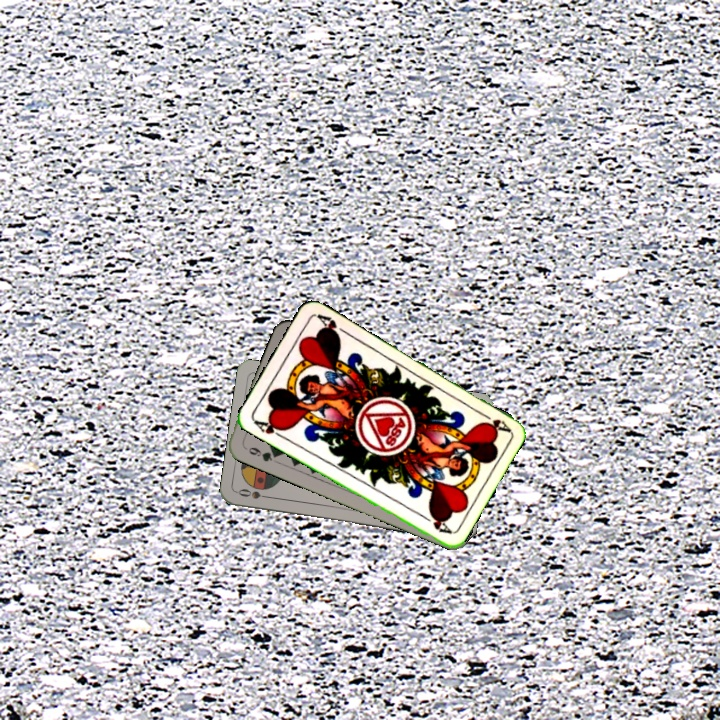G9: (244, 443, 281, 464)
HA: (474, 407, 512, 435), (250, 416, 288, 442)
SO: (234, 485, 274, 502)
